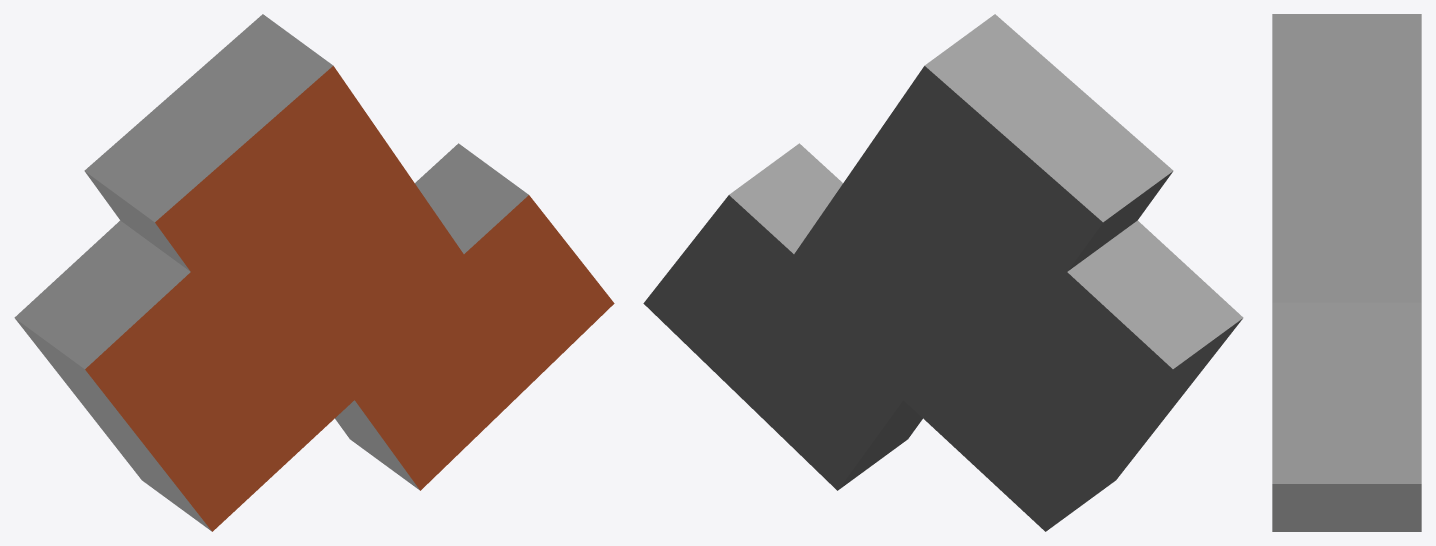
Rendered from construction_4629_assumed_A_Casa_h6m.obj.
The picture shows the model from 3 angles, left to right: view 1: azimuth 30°, elevation 25°; view 2: azimuth 150°, elevation 25°; view 3: azimuth 270°, elevation 25°; orthographic projection. The views are drawn at different scales.
Parts seen in each view (by area): view 1: construction_4629_assumed_A_Casa; view 2: construction_4629_assumed_A_Casa; view 3: construction_4629_assumed_A_Casa.
Part boxes in pixels (bbox=[...]): construction_4629_assumed_A_Casa: bbox=[14, 14, 614, 531]; construction_4629_assumed_A_Casa: bbox=[643, 14, 1243, 531]; construction_4629_assumed_A_Casa: bbox=[1272, 14, 1421, 531].
Bounding box in the file's own units: 26.01 × 20.95 × 6.
